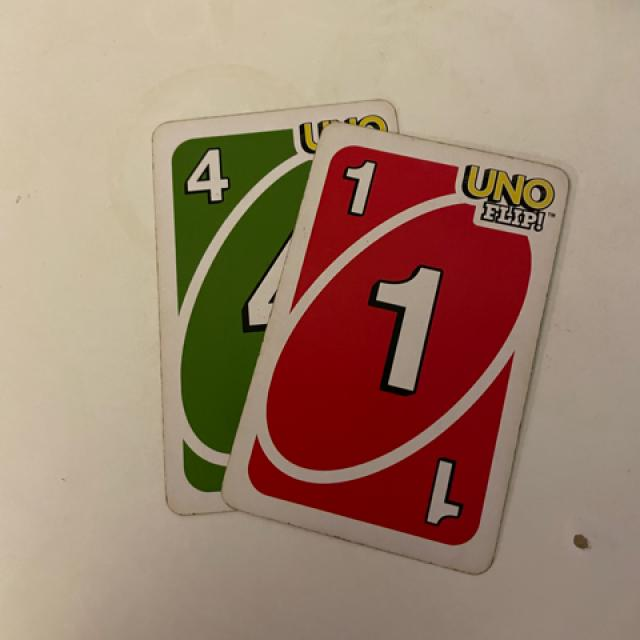lgreen-4: (166, 136, 246, 217)
lred-1: (324, 145, 386, 238)
